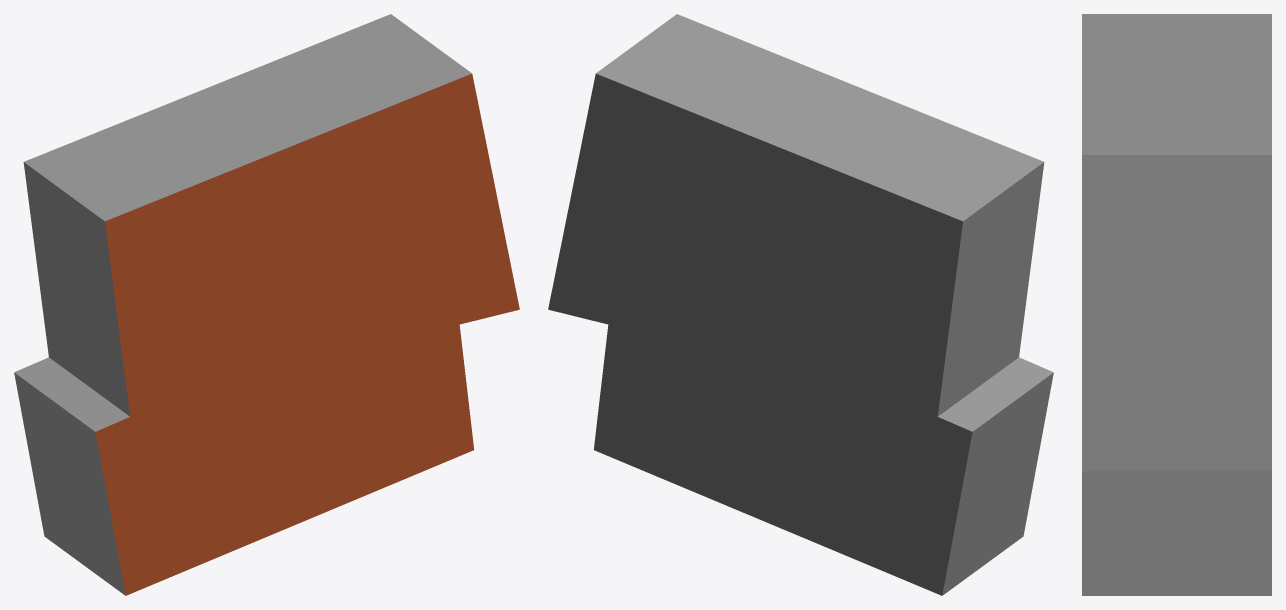
Rendered from construction_2562_assumed_A_Casa_h6m.obj.
3 renders of one model, left to right at view 1: azimuth 30°, elevation 25°; view 2: azimuth 150°, elevation 25°; view 3: azimuth 270°, elevation 25°, orthographic. The views are drawn at different scales.
Parts seen in each view (by area): view 1: construction_2562_assumed_A_Casa; view 2: construction_2562_assumed_A_Casa; view 3: construction_2562_assumed_A_Casa.
Part boxes in pixels (left/top/right/bottom): construction_2562_assumed_A_Casa: left=14, top=14, right=519, bottom=595; construction_2562_assumed_A_Casa: left=548, top=14, right=1053, bottom=595; construction_2562_assumed_A_Casa: left=1082, top=14, right=1271, bottom=595.
Bounding box in the file's own units: 18.08 × 17.83 × 6.
